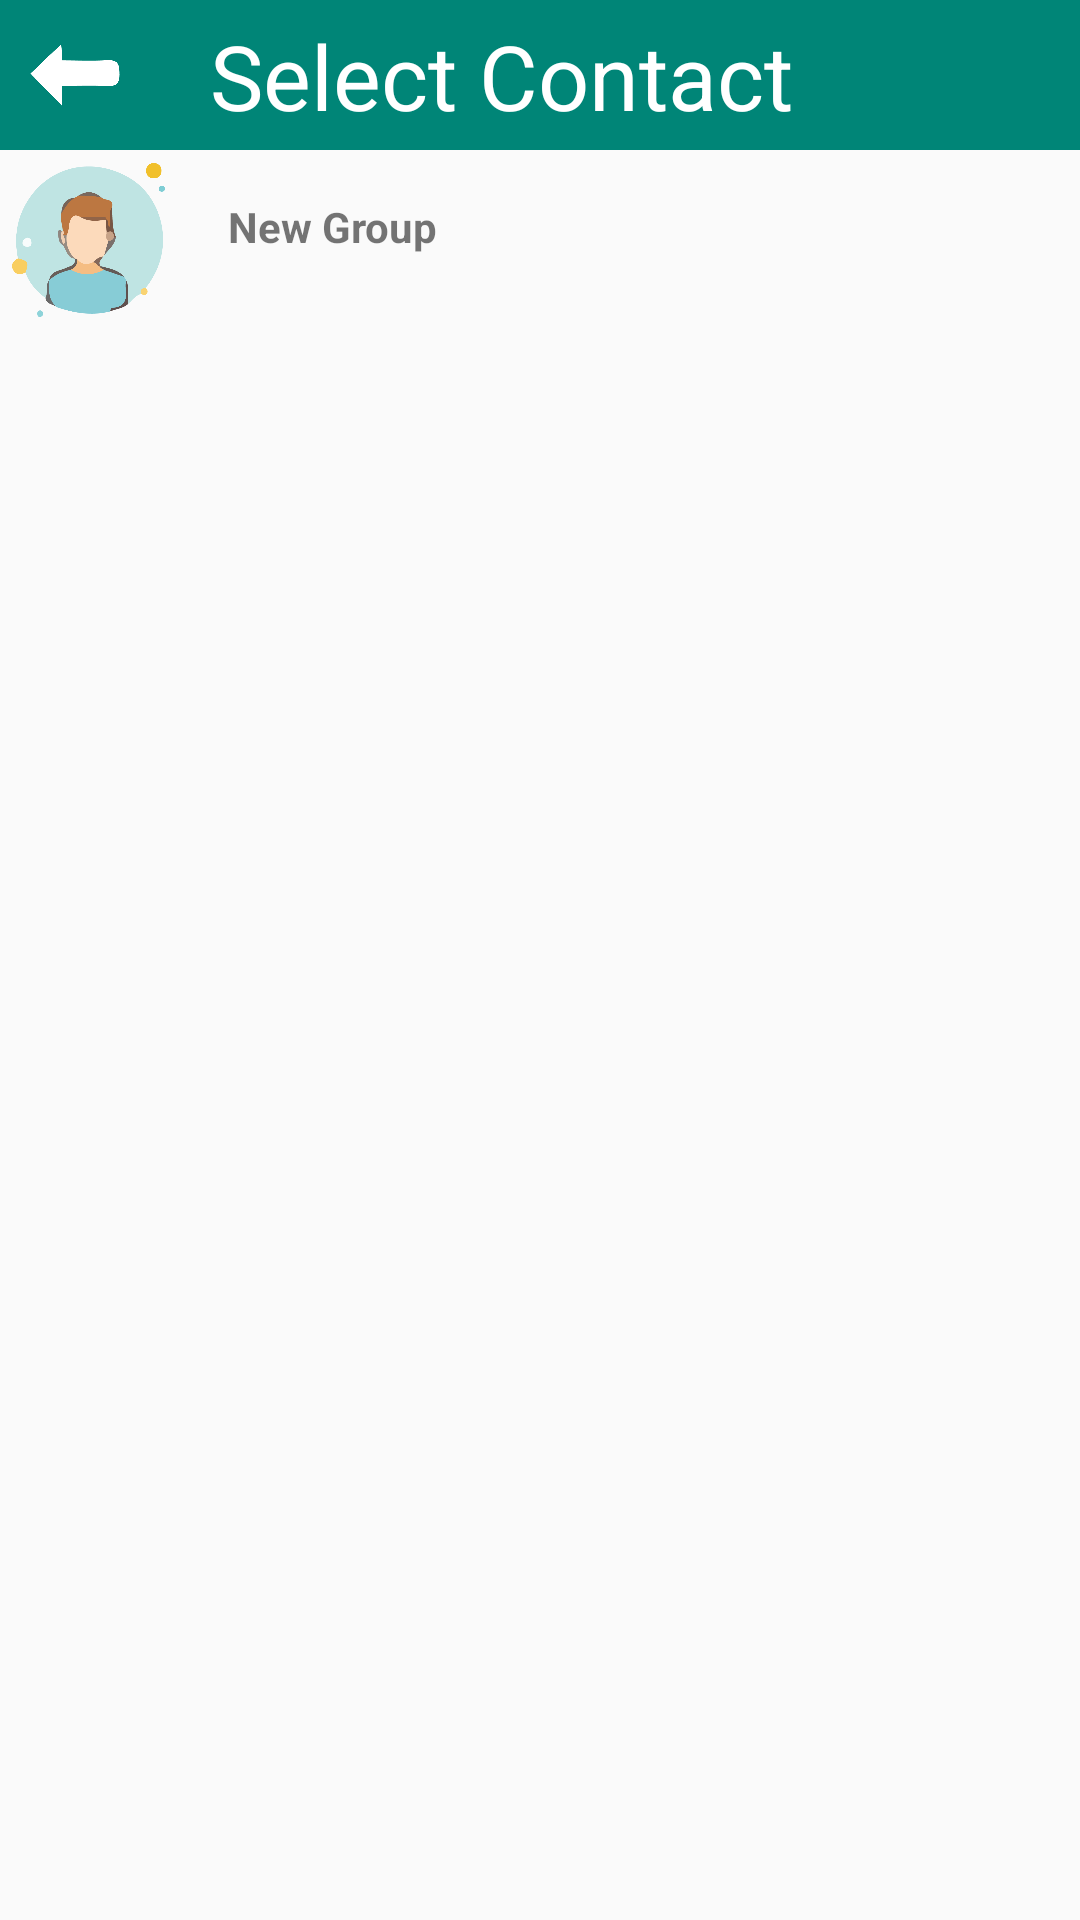

Point at icon controls on the screen. Image size 1080×1920, points as point (x, y).
backarrow: point (75, 75)
userpic: point (88, 240)
